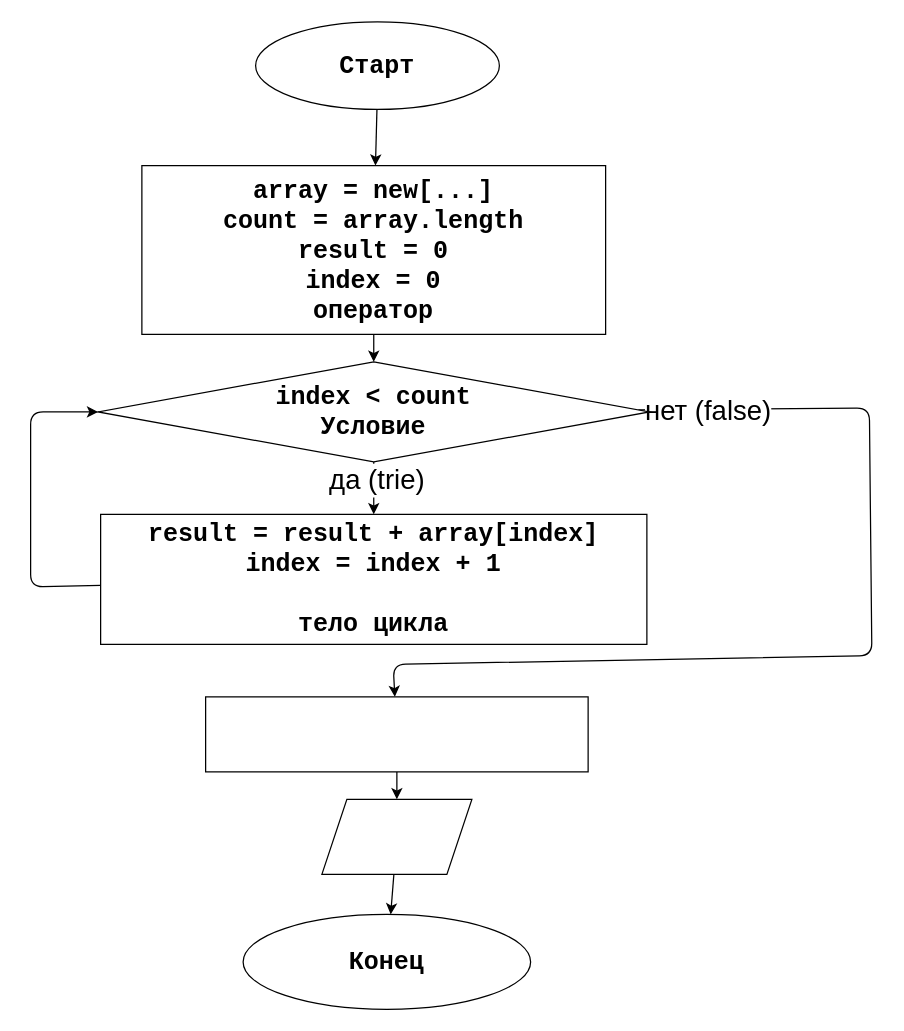
Some shapes in this 904 by 1031 pixel diagram are drawn without their labels. The shapes that lost their labels are listed below. From the top down, each one's centre as x and y in pixels, then its label:
(x=396, y=734): result = result / count
(x=396, y=836): result вывод
